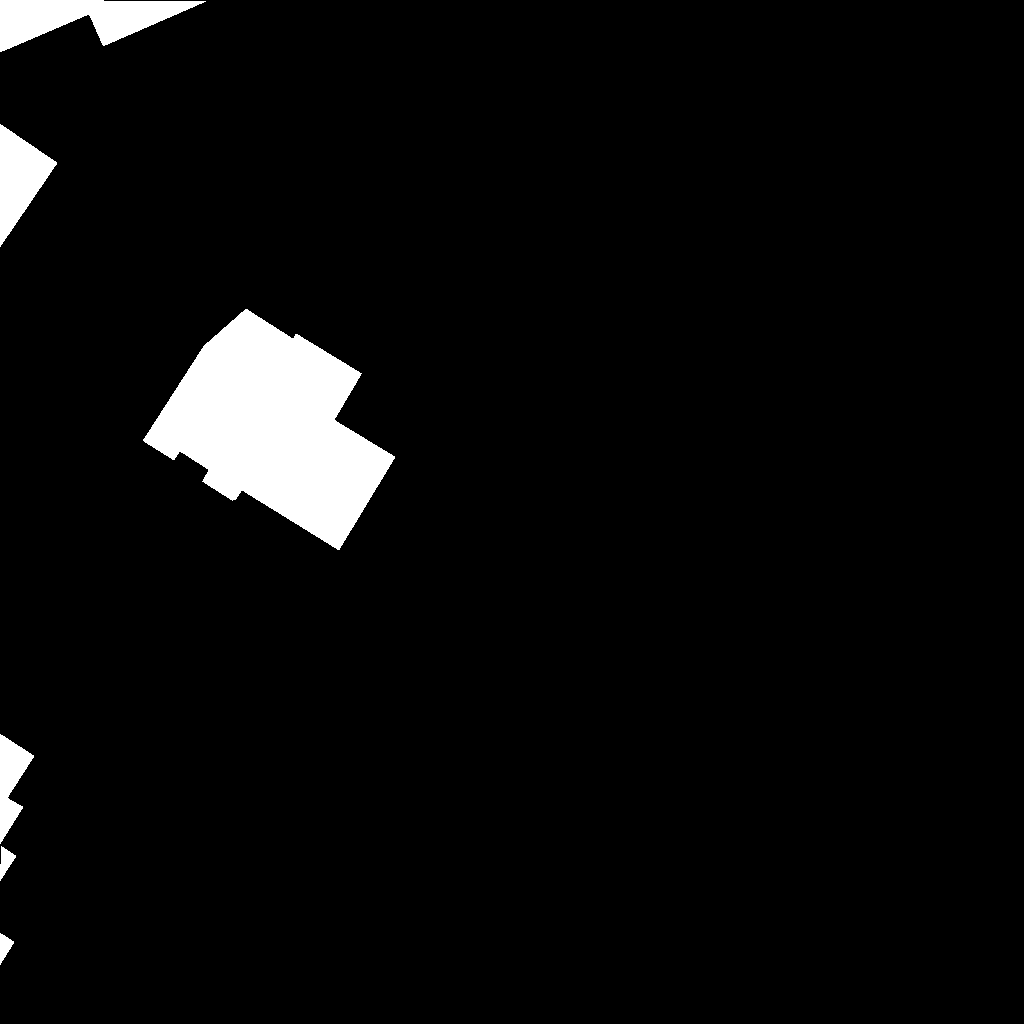building: (143, 309, 396, 551), (0, 0, 208, 53), (0, 124, 58, 248), (0, 734, 35, 882), (0, 933, 15, 966)
